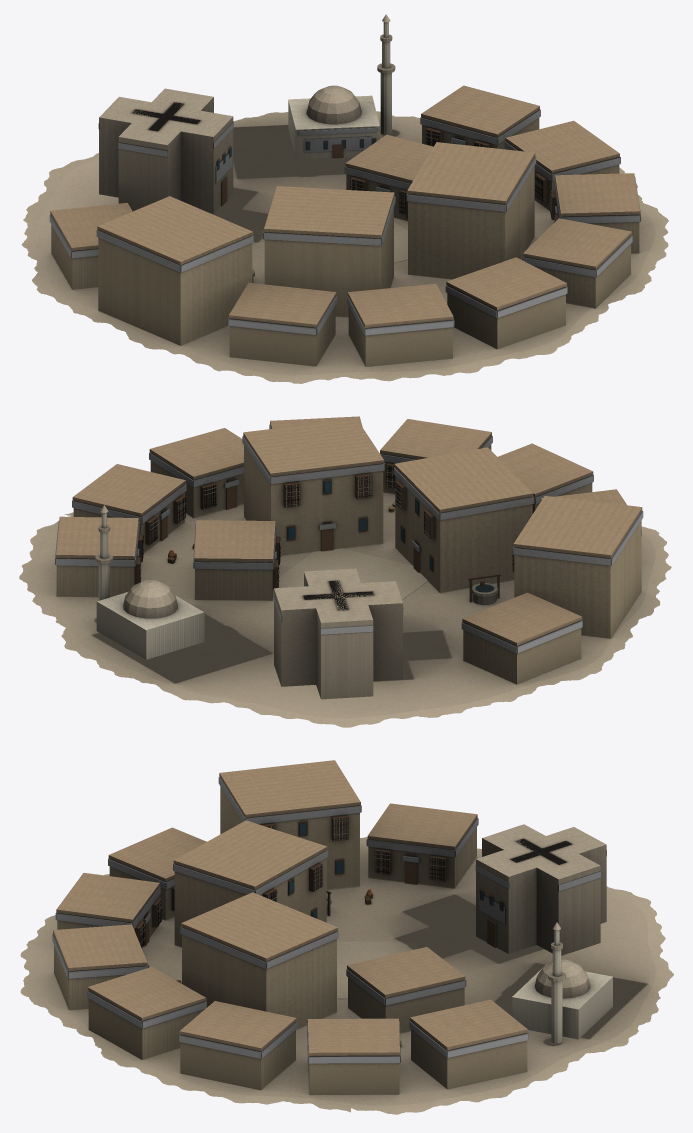
Rendered from kingdoms-town-medium-b-nile.glb.
3 views of the same model, one above another, from view 1: azimuth 30°, elevation 25°; view 2: azimuth 150°, elevation 25°; view 3: azimuth 270°, elevation 25° (orthographic).
Parts seen in each view (by area): view 1: LOD0; view 2: LOD0; view 3: LOD0.
Part boxes in pixels (x1,y1,x2,y2): LOD0: (21,14,668,383); LOD0: (19,416,671,727); LOD0: (20,760,673,1114).
Size of what is drawn, in the model's own units: 6.02 by 1.2 by 5.92.
Materials: 3 (3 with a texture image).
